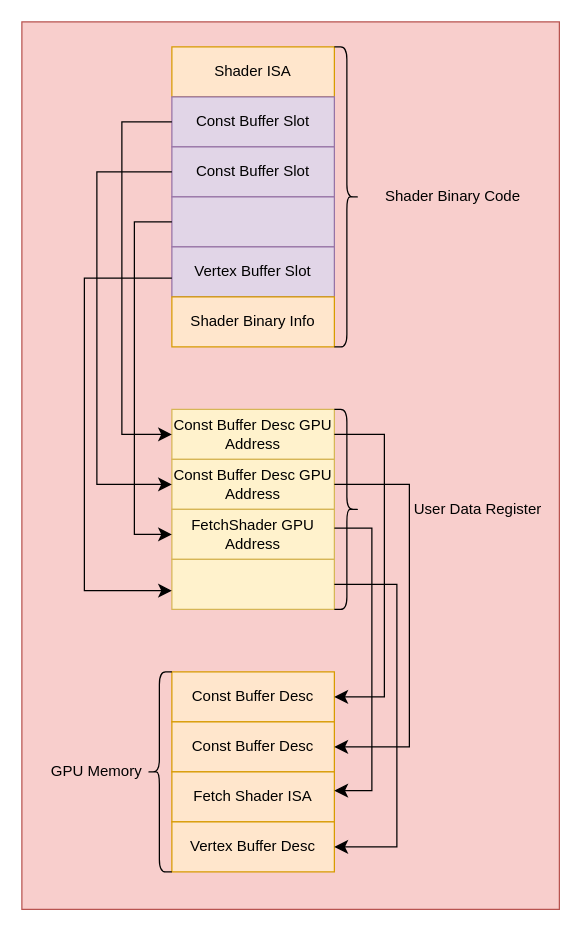
Image size: 581x931. Some labels were removed from this diagram. The centre of each missing label's shape, as x and y in pixels:
Fetch Shader Slot: point (252, 221)
VertexBuffer Desc GPU Address: point (252, 583)
